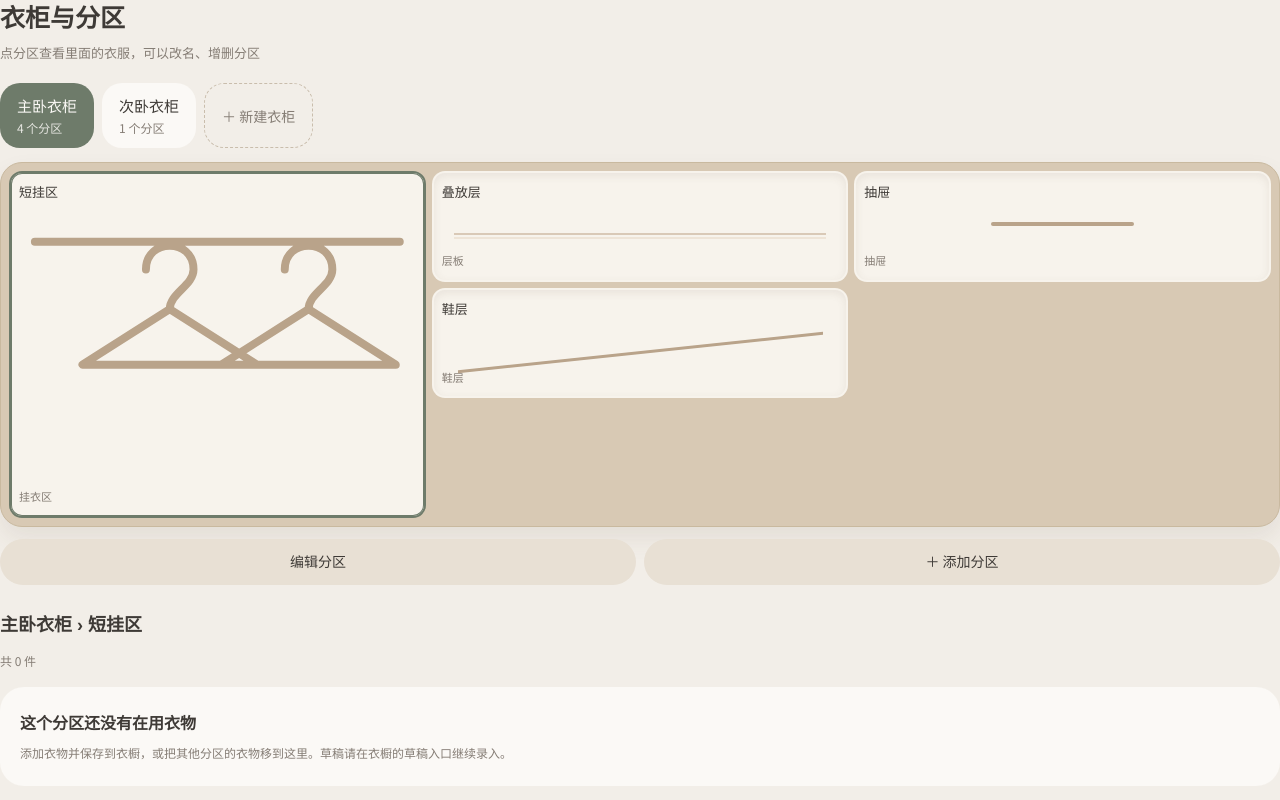
Test: keeps a failed save open with its name intact and offers session recovery
Click the button "＋ 新建衣柜" at (259, 116), box 204,83 -> 313,148
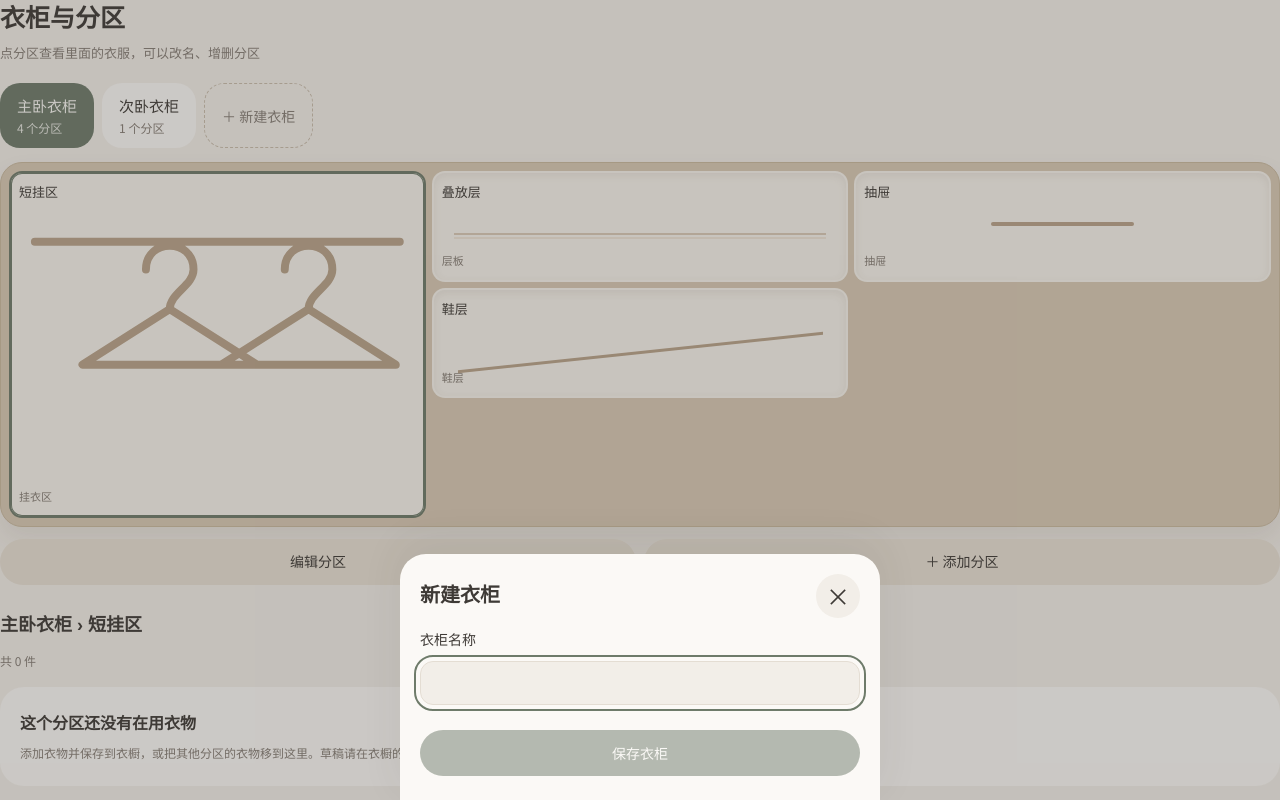
Type "备用衣柜" into the field labelled "衣柜名称" at (640, 683), box 420,661 -> 860,705
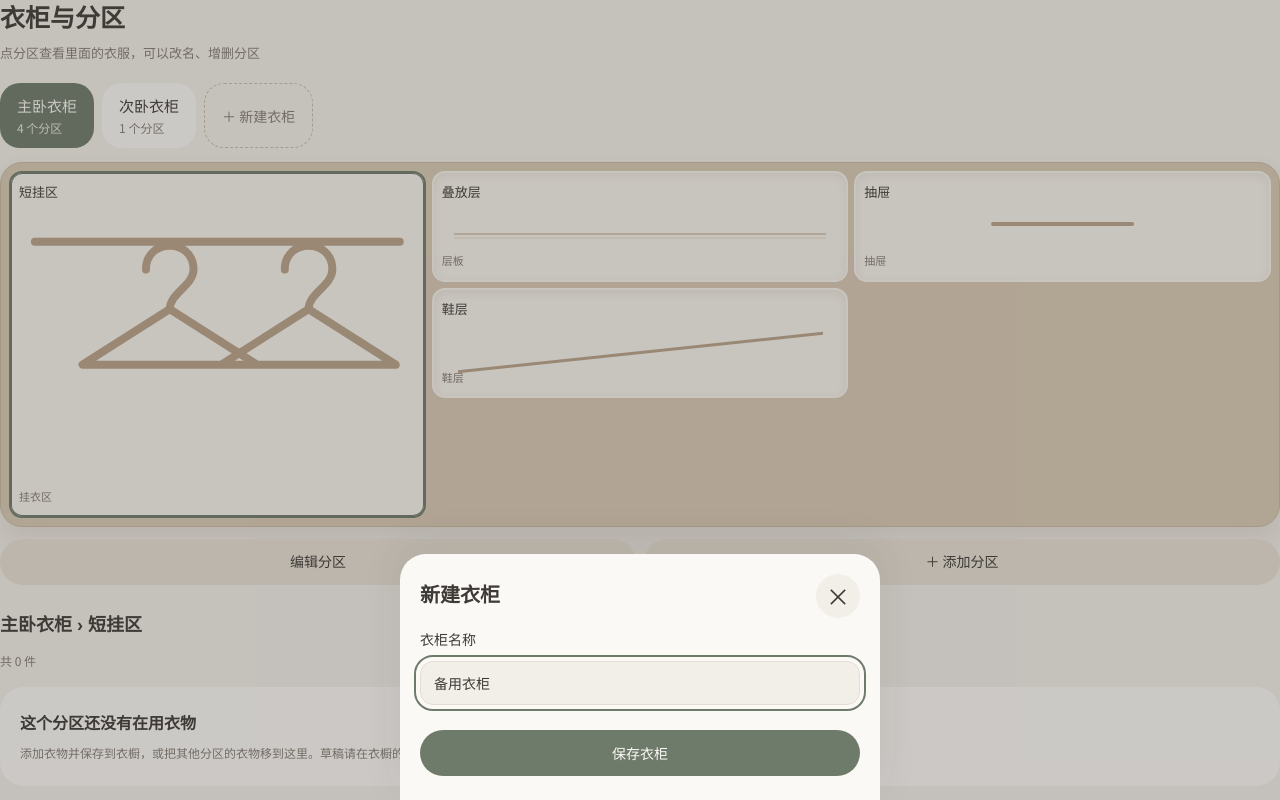
Click the button "保存衣柜" at (640, 753), box 420,730 -> 860,776
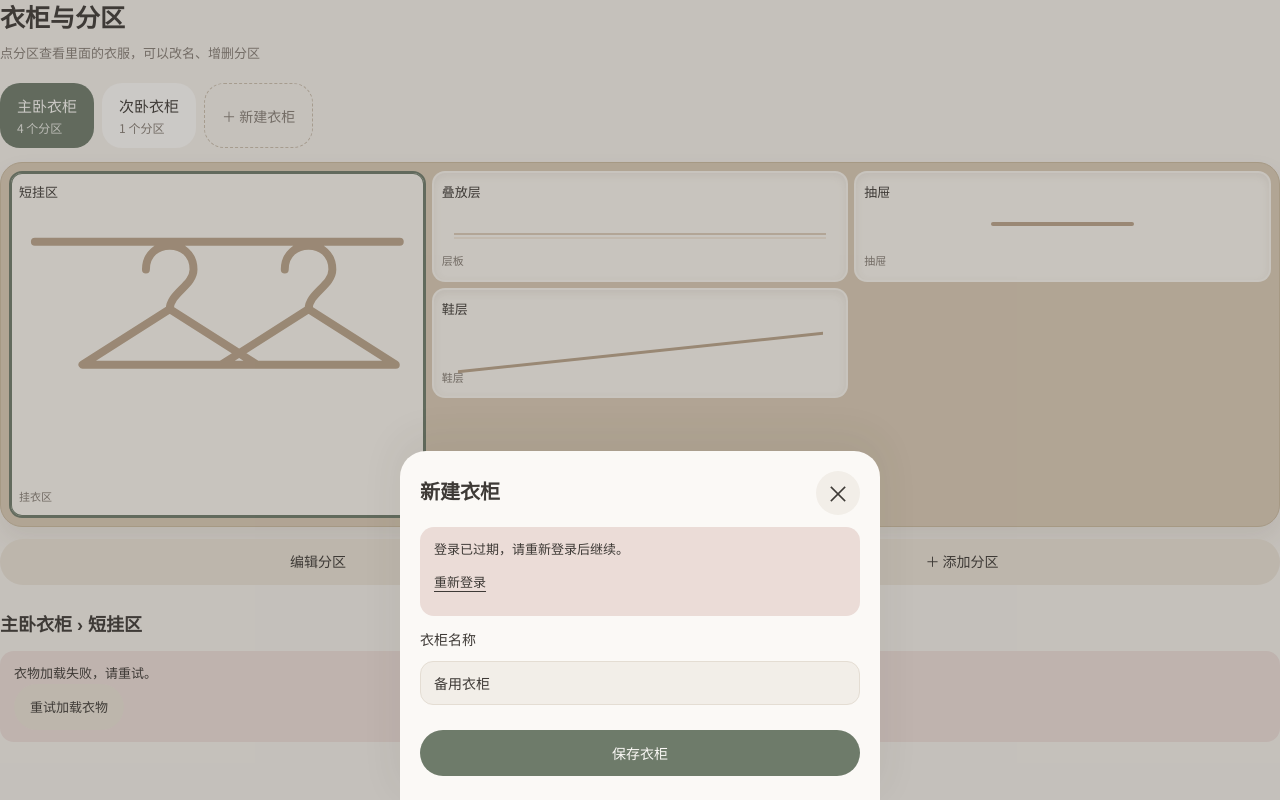
Check: the button "保存衣柜" is enabled, box 420,730 -> 860,776
Check: the message shows "登录已过期", box 434,539 -> 629,558
